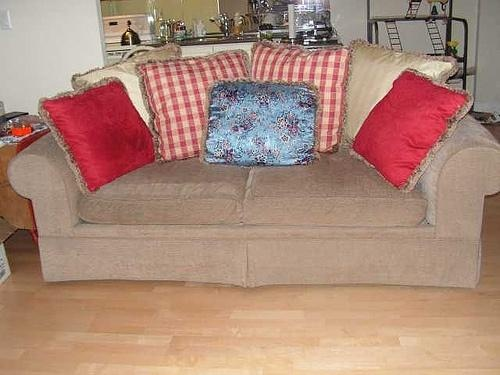sofa: (8, 46, 500, 289)
